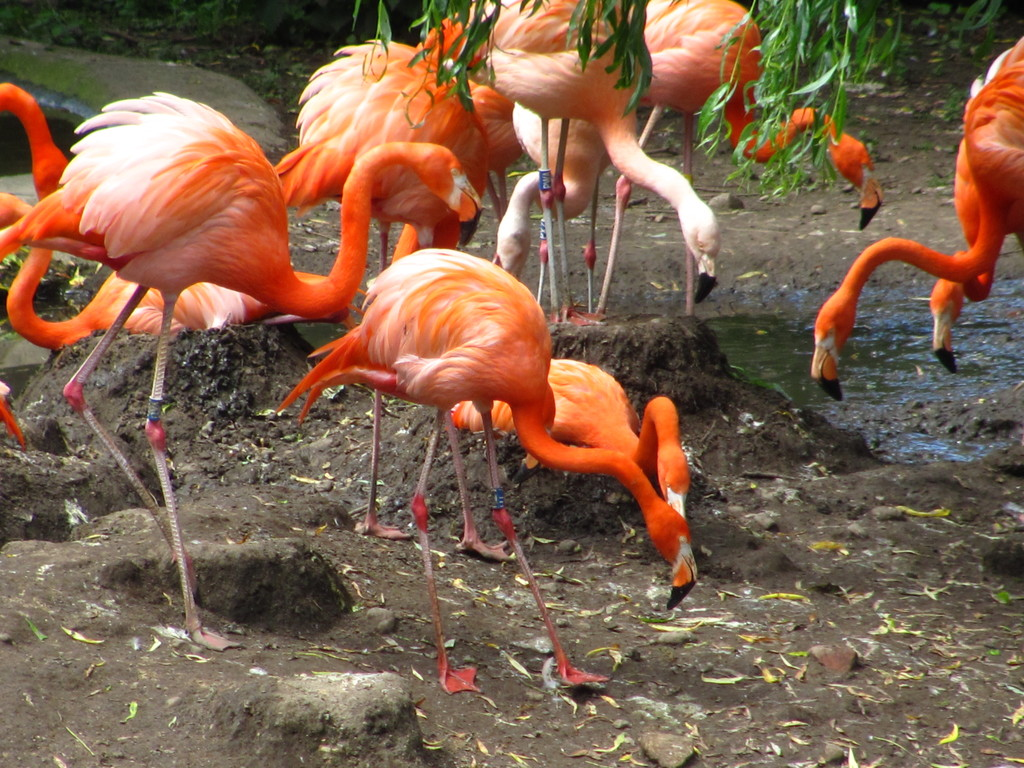person: (275, 247, 697, 568)
